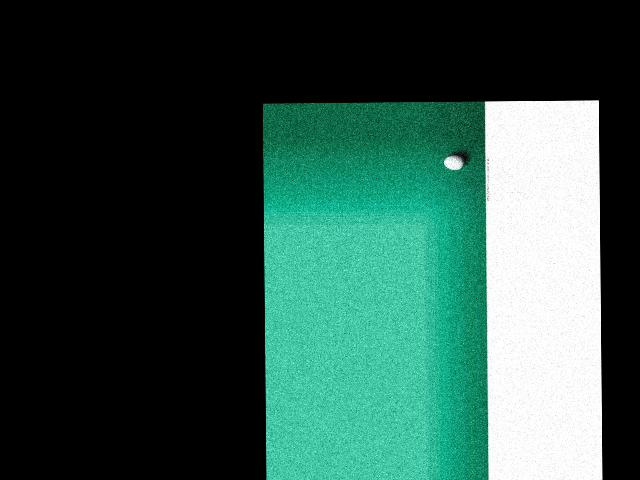egg: (444, 155, 464, 170)
